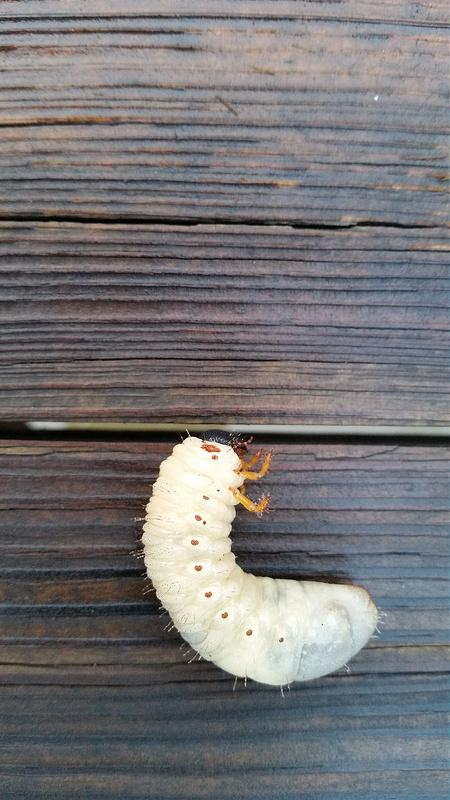grub: (144, 435, 388, 699)
